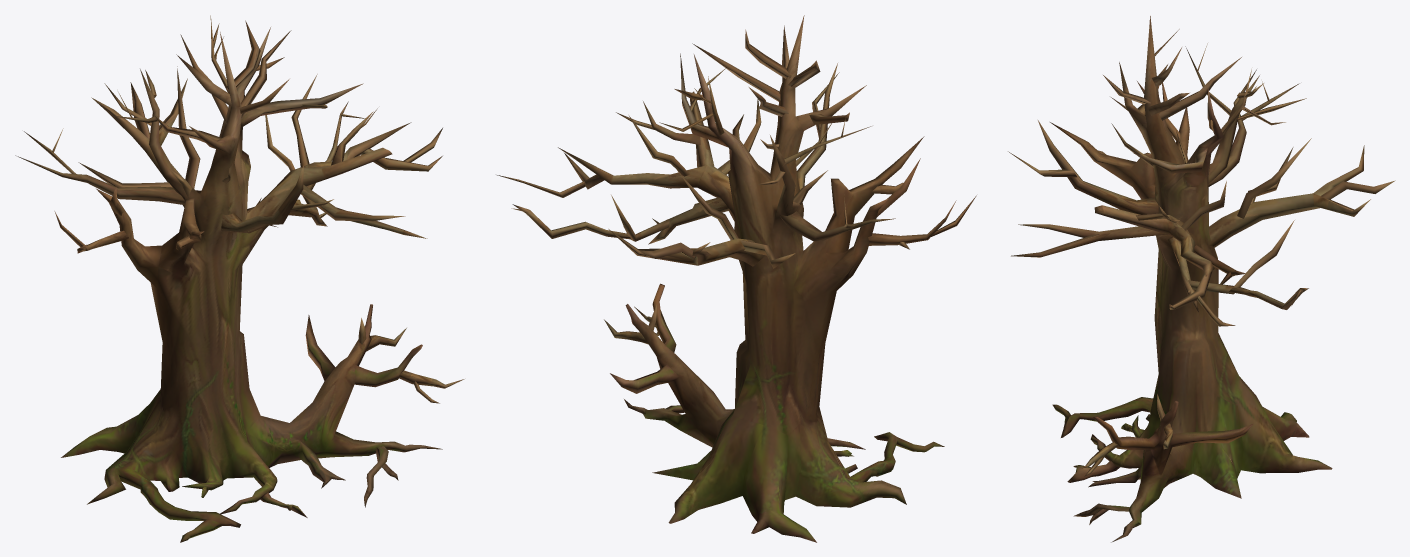
The model's file is scene_shenmisenlin_tree04.FBX.
3 views of the same model, side by side, from view 1: azimuth 30°, elevation 25°; view 2: azimuth 150°, elevation 25°; view 3: azimuth 270°, elevation 25° (orthographic). The views are drawn at different scales.
Parts seen in each view (by area): view 1: scene_shenmisenlin_tree04; view 2: scene_shenmisenlin_tree04; view 3: scene_shenmisenlin_tree04.
Boxes of the visible parts, box(x1,y1,x2,y2) form: scene_shenmisenlin_tree04: box(15, 15, 464, 542); scene_shenmisenlin_tree04: box(497, 15, 976, 542); scene_shenmisenlin_tree04: box(1008, 16, 1395, 542).
Size of the model in its own units: 994 by 1050 by 818.
